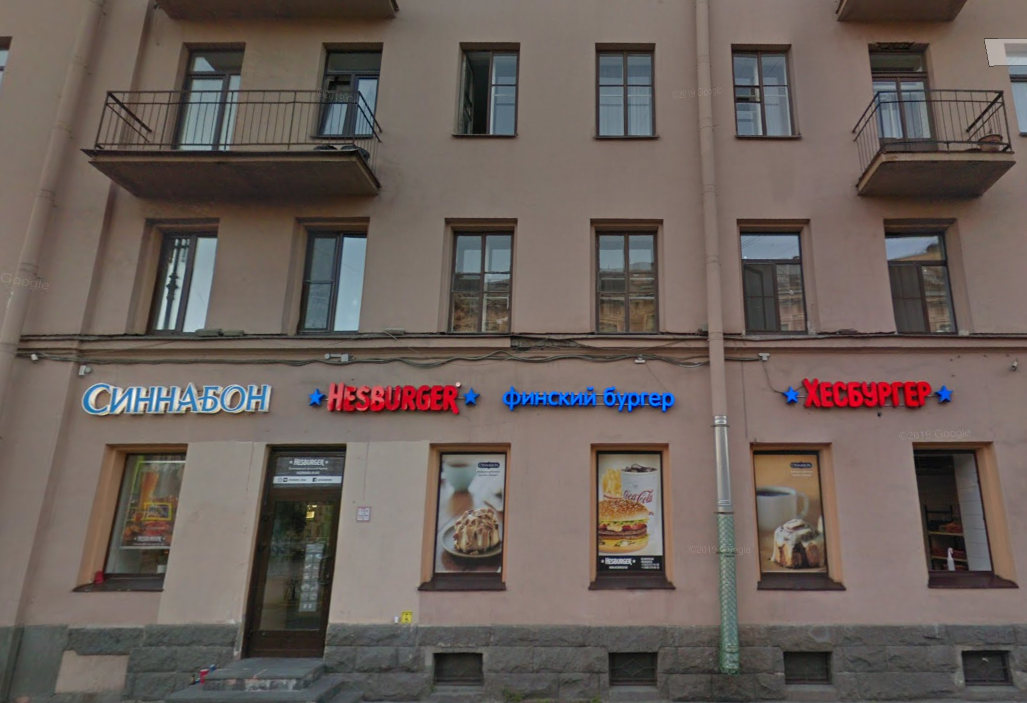door: (244, 491, 336, 655)
signboard: (309, 378, 676, 418), (779, 370, 961, 412), (81, 382, 272, 418)
window: (93, 450, 188, 585), (913, 439, 999, 573), (428, 447, 508, 577), (595, 446, 665, 581), (757, 449, 824, 583), (144, 218, 217, 335), (882, 229, 960, 338), (292, 225, 369, 328), (741, 228, 814, 336), (593, 226, 656, 336), (447, 227, 513, 331), (176, 44, 240, 149), (872, 44, 936, 148), (456, 44, 520, 138), (732, 41, 792, 137), (596, 45, 655, 140), (322, 44, 376, 135)
